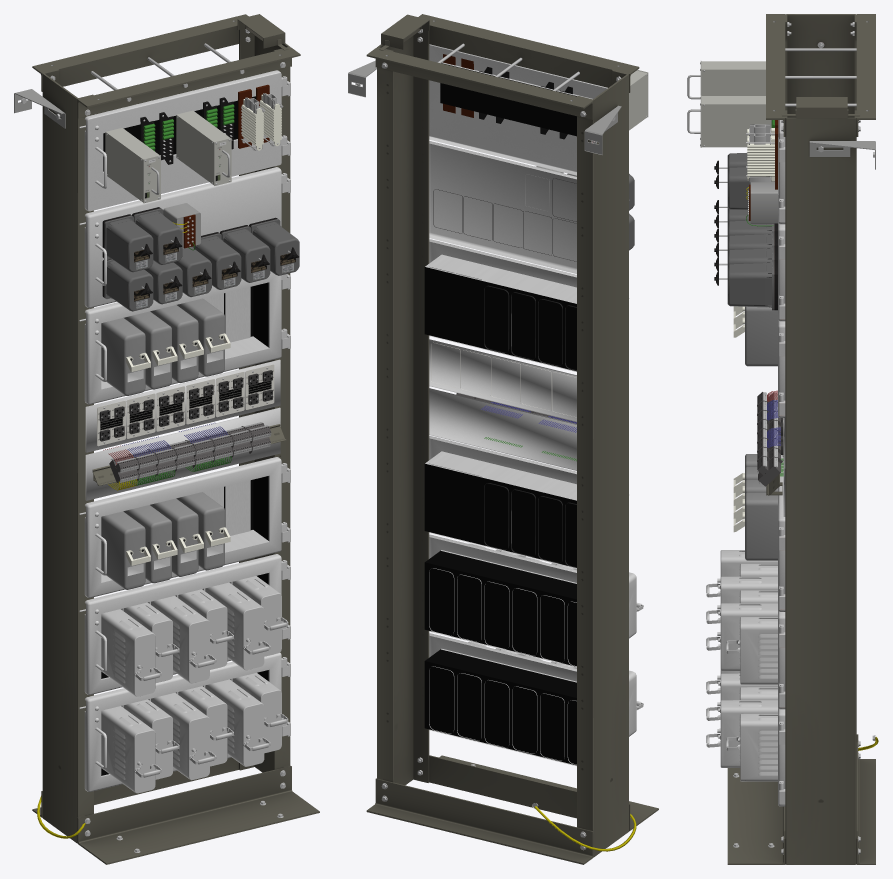
Rendered from stativ221.fbx.
3 views of the same model, side by side, from view 1: azimuth 30°, elevation 25°; view 2: azimuth 150°, elevation 25°; view 3: azimuth 270°, elevation 25° (orthographic).
Parts seen in each view (by area): view 1: cabinet_stativ221, pan_low, FPM_group.005, FPM_group.009, fpm.002_low, fpm.002_low.004, glass.005_low.001, FPM_group.002, FPM_group.004, kolodka2_low.002, kolodka, kolodka.002 (+12 smaller); view 2: cabinet_stativ221, pan_low, FPM_group.005, FPM_group.009, Cube_low.001, fpm.003_low, fpm.003_low.004; view 3: cabinet_stativ221, pan_low, glass.005_low.001, FPM_group.005, FPM_group.002, FPM_group.004, Cube_low.002, FPM_group.009, fpm.002_low, Cube_low.001, kolodka2_low.002, fpm.002_low.004 (+5 smaller).
Boxes of the visible parts, box(x1,y1,x2,y2) form: cabinet_stativ221: box(14, 14, 319, 864); pan_low: box(79, 70, 290, 791); FPM_group.005: box(101, 582, 270, 696); FPM_group.009: box(101, 679, 270, 793); fpm.002_low: box(101, 492, 224, 589); fpm.002_low.004: box(101, 298, 224, 395); glass.005_low.001: box(104, 219, 299, 311); FPM_group.002: box(121, 576, 288, 682); FPM_group.004: box(121, 673, 288, 779); kolodka2_low.002: box(109, 422, 271, 482); kolodka: box(97, 386, 185, 446); kolodka.002: box(186, 364, 274, 424); cabinet_stativ221: box(348, 14, 658, 864); pan_low: box(424, 44, 629, 766); FPM_group.005: box(457, 549, 643, 666); FPM_group.009: box(457, 648, 643, 764); Cube_low.001: box(629, 70, 648, 130); fpm.003_low: box(484, 483, 576, 567); fpm.003_low.004: box(484, 285, 576, 370); cabinet_stativ221: box(727, 14, 878, 864); pan_low: box(778, 120, 785, 806); glass.005_low.001: box(727, 208, 774, 310); FPM_group.005: box(706, 550, 777, 670); FPM_group.002: box(726, 563, 777, 684); FPM_group.004: box(726, 687, 777, 781); Cube_low.002: box(687, 95, 771, 147); FPM_group.009: box(706, 671, 777, 767); fpm.002_low: box(745, 454, 777, 560); Cube_low.001: box(687, 61, 765, 99); kolodka2_low.002: box(757, 392, 782, 486); fpm.002_low.004: box(745, 306, 777, 366).
Bounding box in the file's own units: 73.83 × 213 × 48.83.
